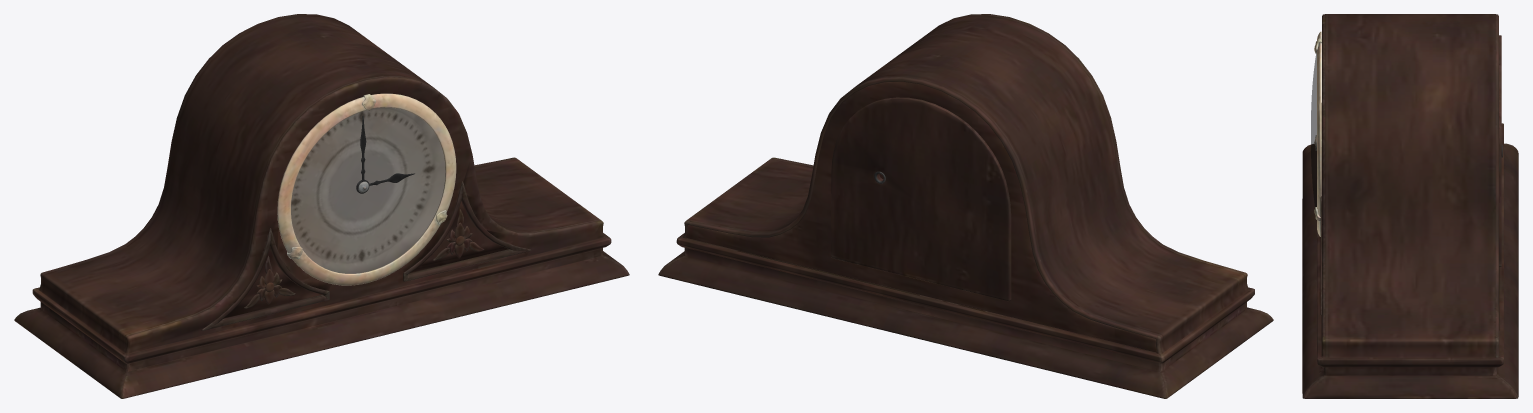
File: mantel_clock_01.glb
3 views of the same model, side by side, from view 1: azimuth 30°, elevation 25°; view 2: azimuth 150°, elevation 25°; view 3: azimuth 270°, elevation 25° (orthographic).
Parts seen in each view (by area): view 1: mantel_clock_01, mantel_clock_01_glass; view 2: mantel_clock_01; view 3: mantel_clock_01, mantel_clock_01_glass.
Part boxes in pixels (<box>): mantel_clock_01: <box>14,14,629,398</box>; mantel_clock_01_glass: <box>291,107,445,273</box>; mantel_clock_01: <box>658,14,1273,398</box>; mantel_clock_01: <box>1302,14,1518,398</box>; mantel_clock_01_glass: <box>1311,53,1316,207</box>.
Bounding box in the file's own units: 0.3423 × 0.1605 × 0.1262.
2 materials, 2 textured.
